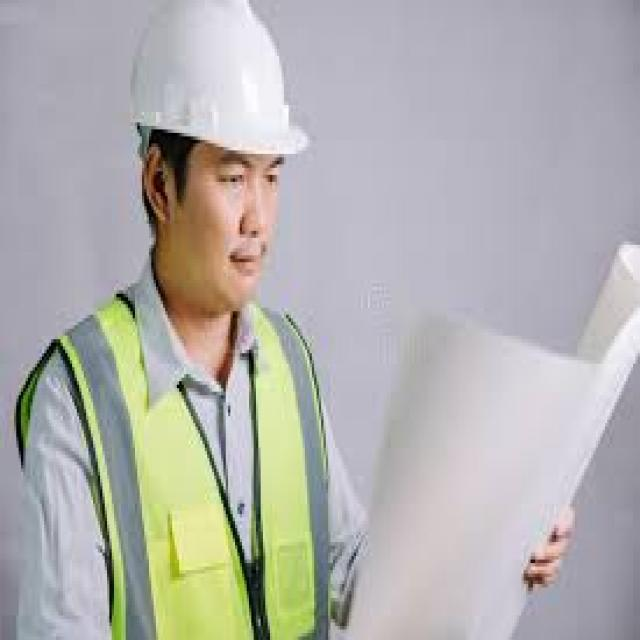Reflective-Jacket: (0, 290, 354, 626)
Safety-Helmet: (121, 3, 314, 172)
